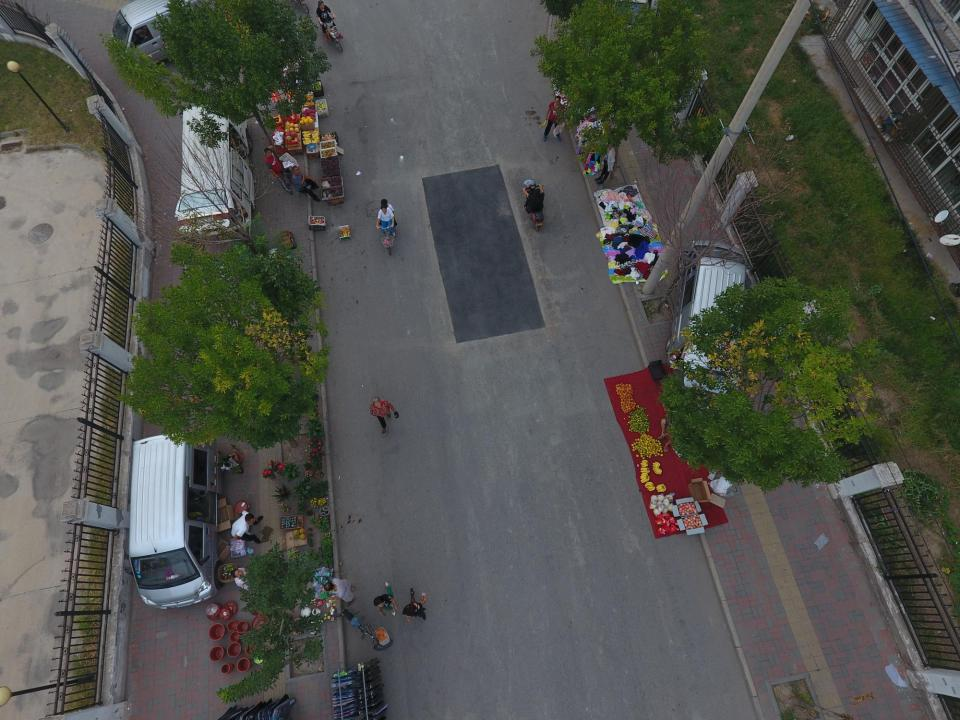van: (129, 433, 224, 610), (666, 240, 747, 396), (175, 102, 255, 236), (110, 0, 222, 71)
